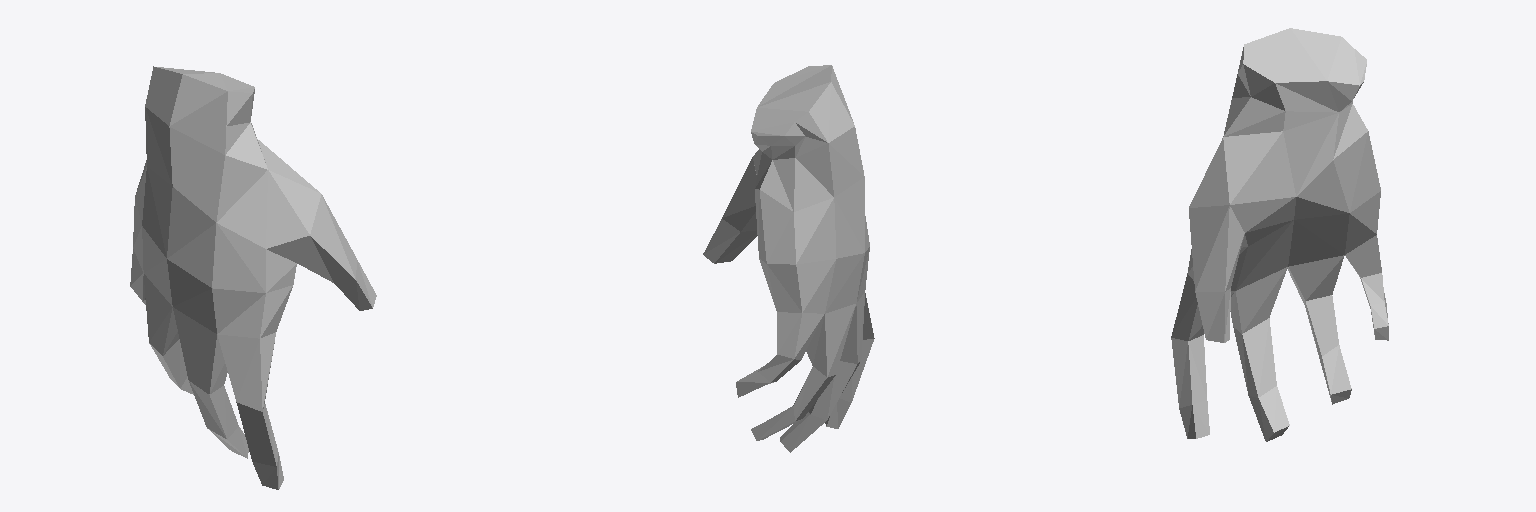
The model's file is RightHand.obj.
The picture shows the model from 3 angles: view 1: azimuth 30°, elevation 25°; view 2: azimuth 150°, elevation 25°; view 3: azimuth 270°, elevation 25°; orthographic projection.
Visible parts, largest first — view 1: bodyMesh.001_lowman_toes.030; view 2: bodyMesh.001_lowman_toes.030; view 3: bodyMesh.001_lowman_toes.030.
Part boxes in pixels (left/top/right/bottom): bodyMesh.001_lowman_toes.030: left=130, top=66, right=376, bottom=489; bodyMesh.001_lowman_toes.030: left=703, top=65, right=874, bottom=452; bodyMesh.001_lowman_toes.030: left=1171, top=28, right=1388, bottom=441.
Bounding box in the file's own units: 0.1952 × 0.3906 × 0.1978.